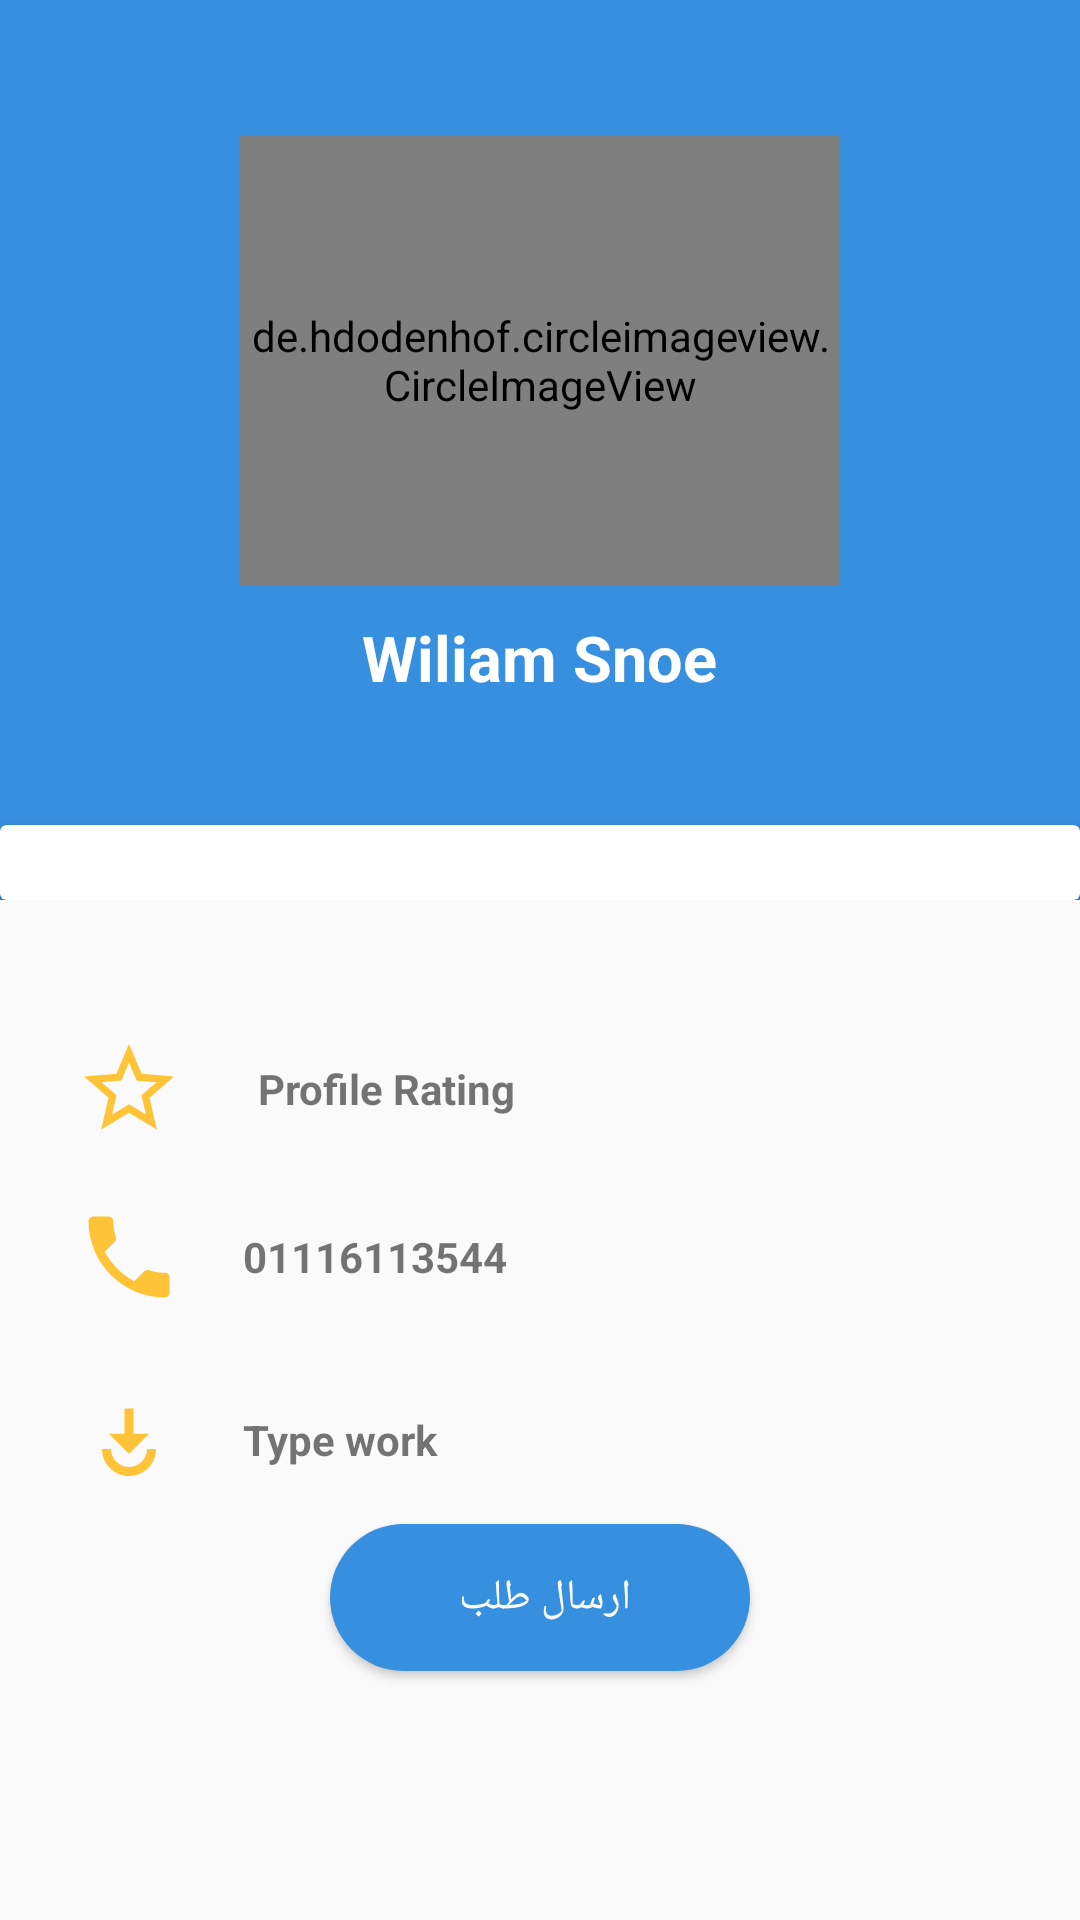

Screen size 1080x1920. Icon name, then its center in pixels as (x=x, y=y):
phone: (x=129, y=1257)
star: (x=129, y=1087)
